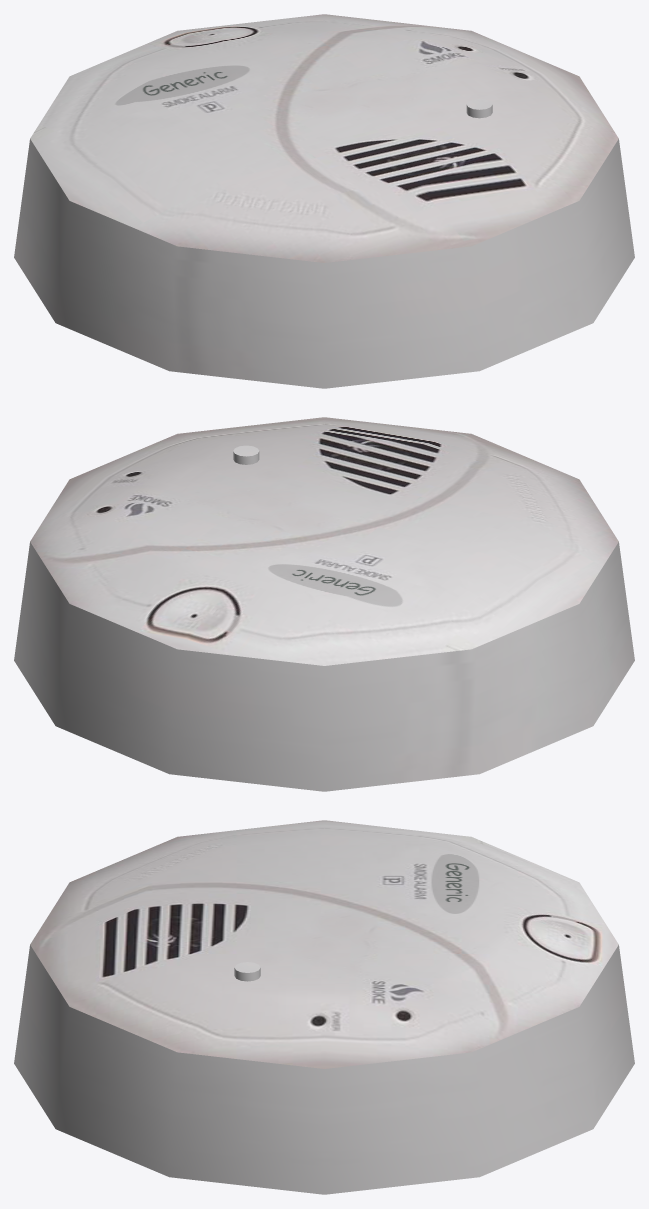
The model's file is Smoke Detector_lod1.fbx.
3 views of the same model, one above another, from view 1: azimuth 30°, elevation 25°; view 2: azimuth 150°, elevation 25°; view 3: azimuth 270°, elevation 25° (orthographic).
Visible parts, largest first — view 1: Smoke_Detector; view 2: Smoke_Detector; view 3: Smoke_Detector.
Part boxes in pixels (left/top/right/bottom): Smoke_Detector: left=14, top=14, right=634, bottom=388; Smoke_Detector: left=14, top=417, right=634, bottom=791; Smoke_Detector: left=14, top=820, right=634, bottom=1194.
Bounding box in the file's own units: 2 × 0.5436 × 2.
